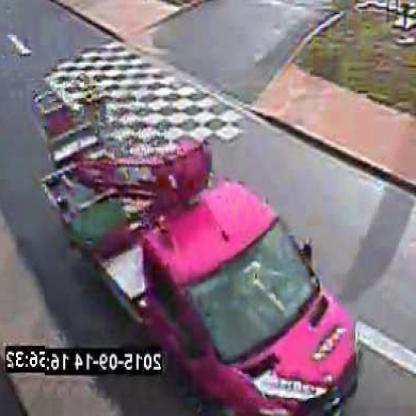truck: (45, 89, 359, 400)
